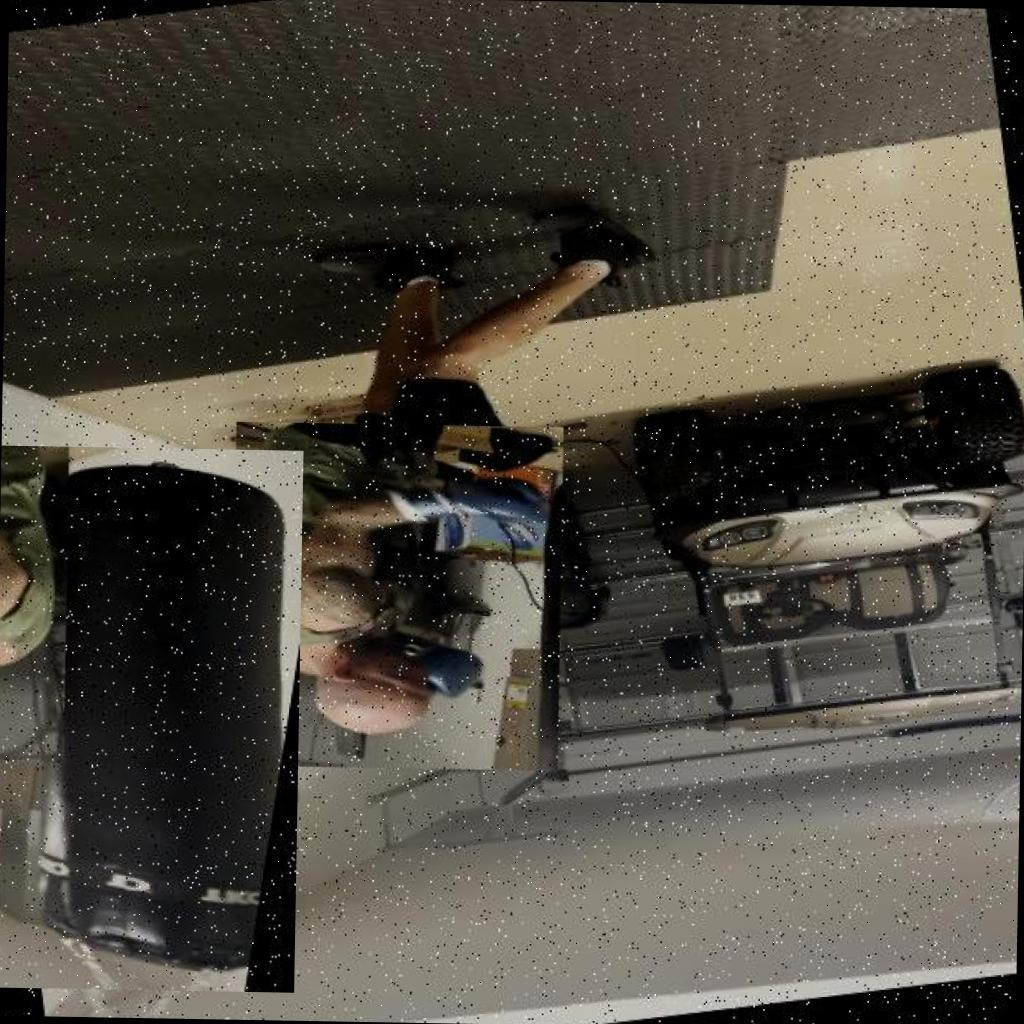bag: (0, 445, 303, 992)
uppercut: (230, 422, 563, 772)
